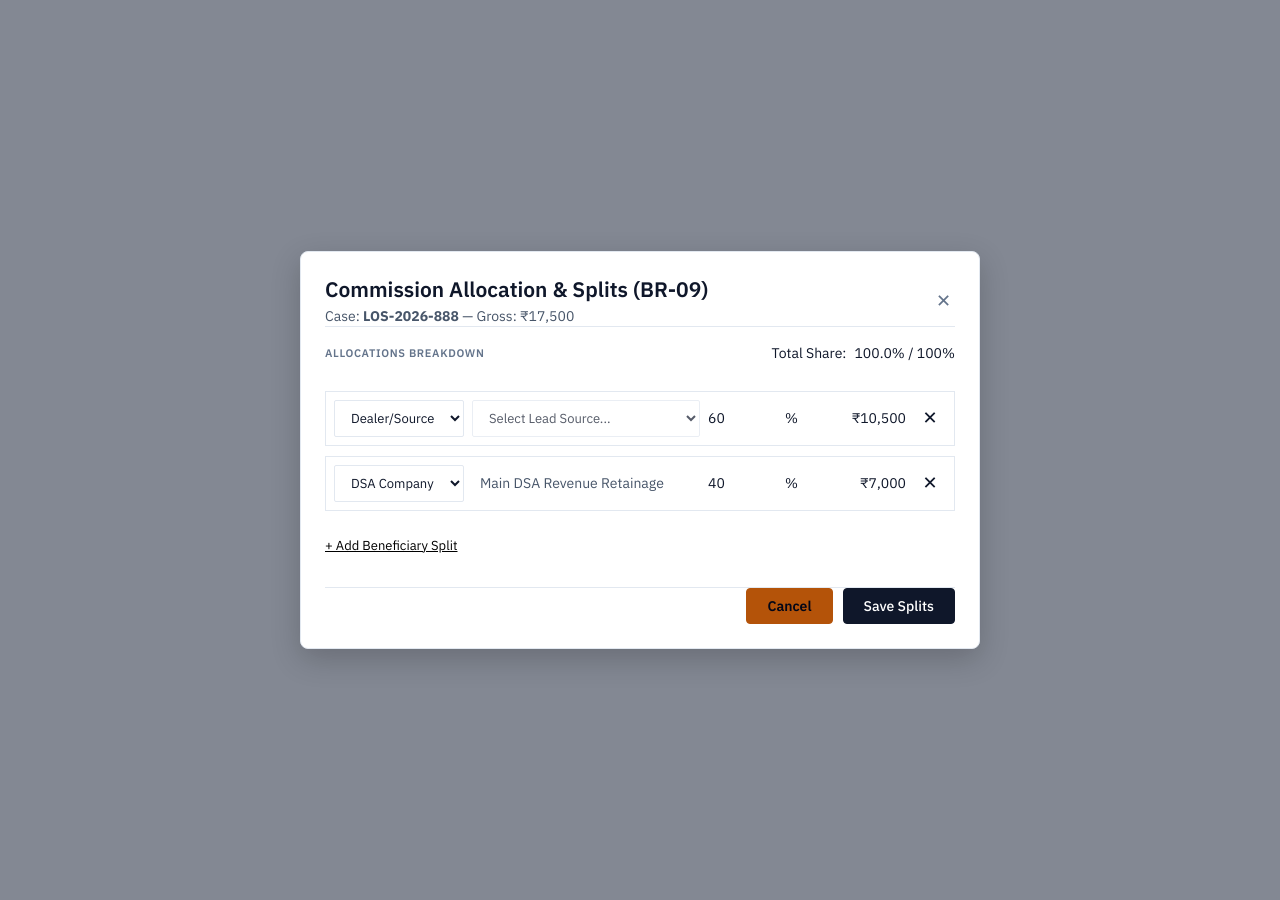
Test: Payout Components Test Suite › SplitEditorModal Component › enforces BR-09: shows error and disables submit when splits exceed 100%
Note: Find the first percentage input and change it from 60 to 80 (total becomes 120%)
Replace the text in the number field next to "₹10,500" with "80" at x=744, y=418, box [708,409,781,427]
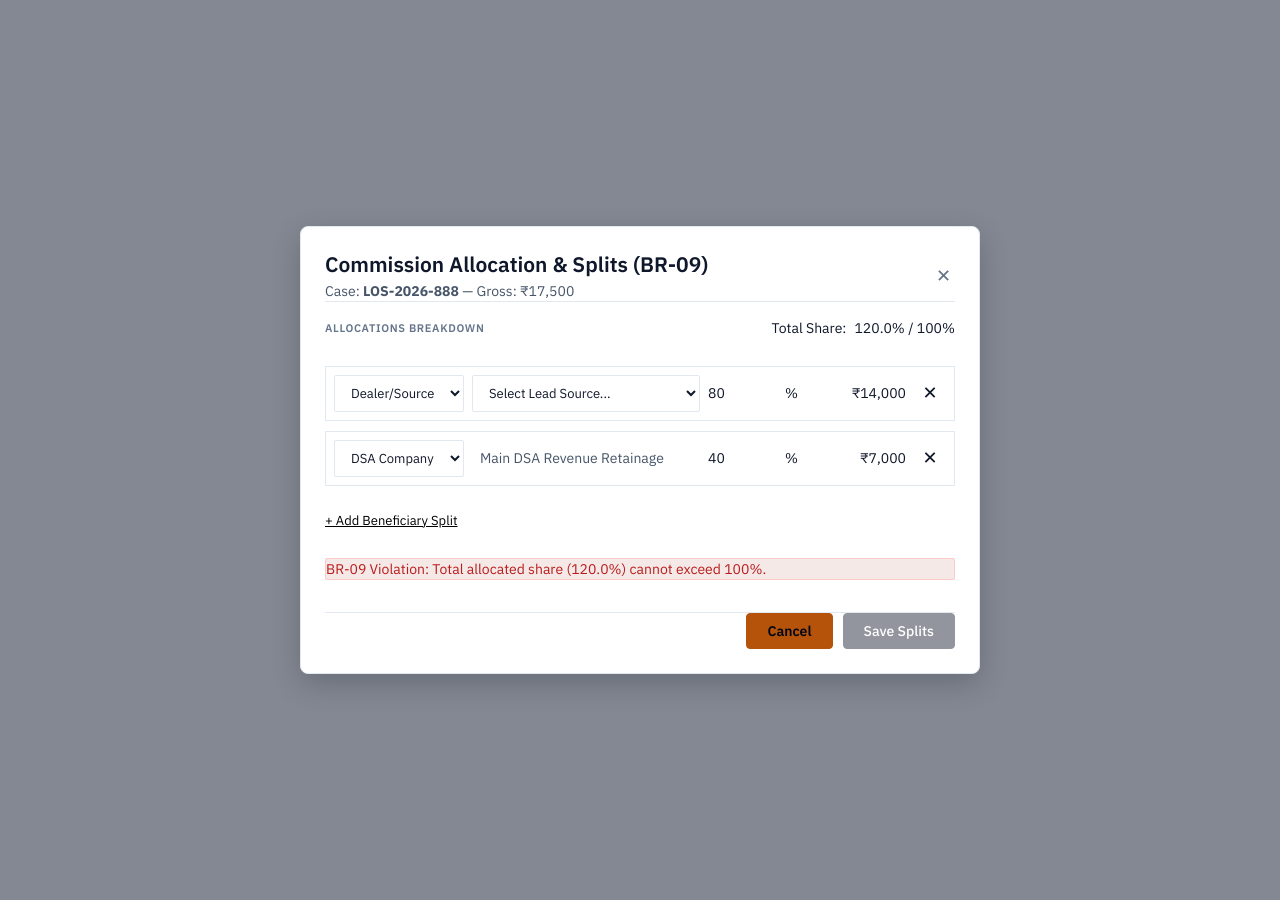
Check: the text "120.0% / 100%" is shown, box [854,318,955,338]
Check: the button "Save Splits" is disabled, box [842,613,955,649]
